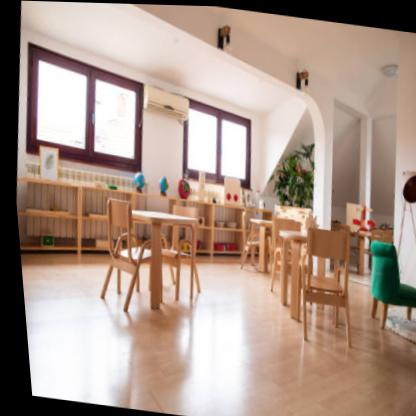Window: (15, 53, 149, 176), (171, 92, 260, 191)
